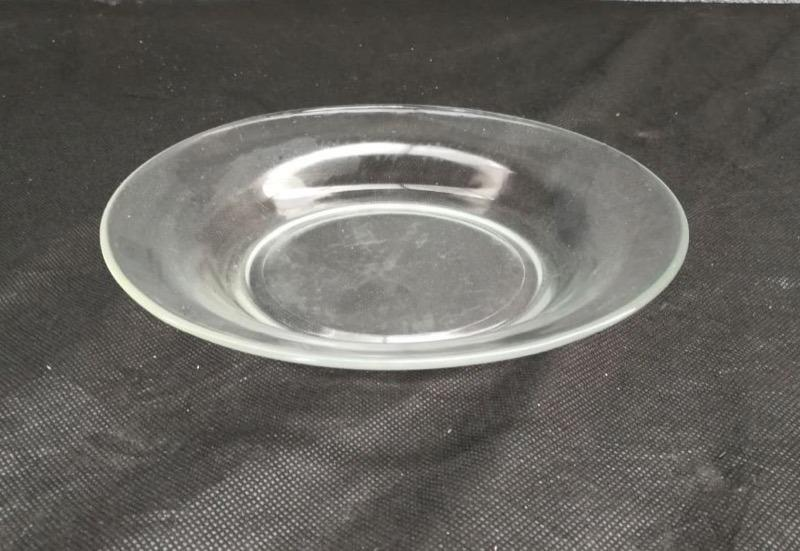glass: (98, 99, 691, 372)
